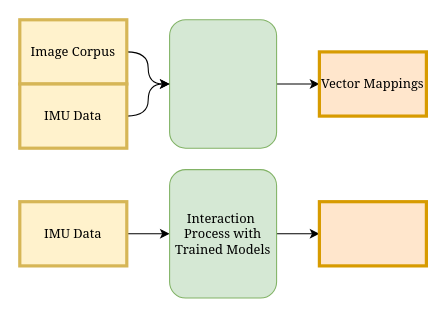
This 446x317 diagram has some shape labels left out. Here are the shapes that lost their labels. From the top down, the box of each, then its label:
(169, 19, 277, 148): Training Process
(317, 200, 427, 267): Reconstructed Images
